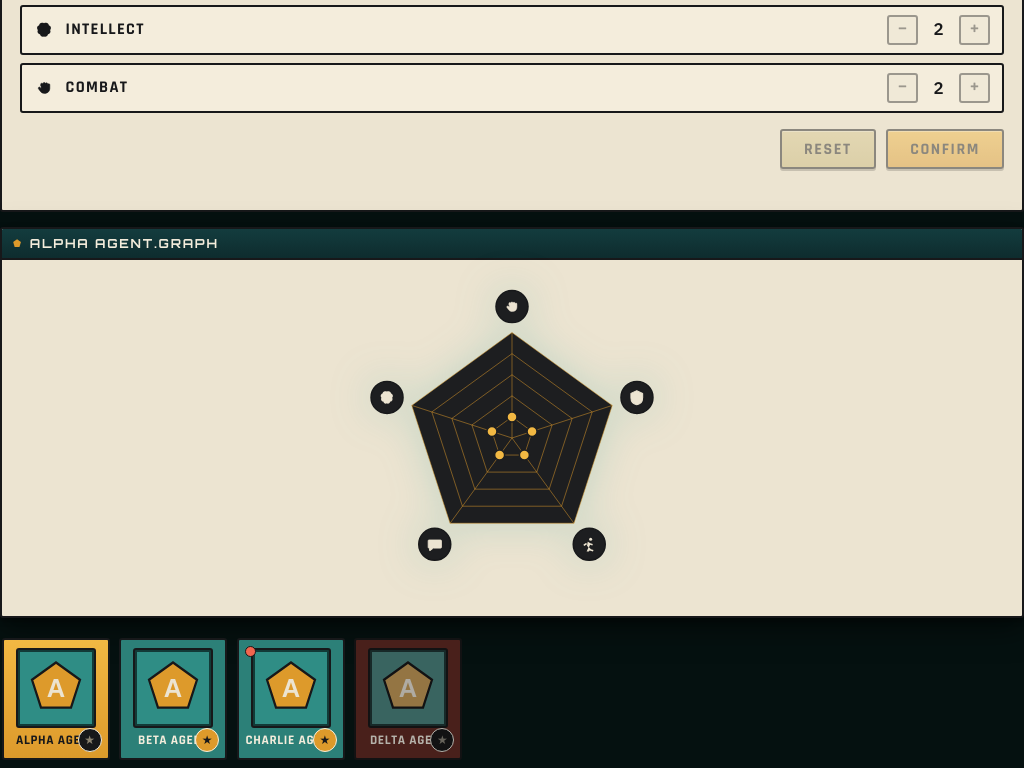
Roster - hero roster bar › switches the hero file when a different tile is clicked
The image size is (1024, 768).
(page scrolled)
Step 1. Click the button "A Charlie Agent ★" → (291, 699), box [237, 638, 345, 760]
(page scrolled)
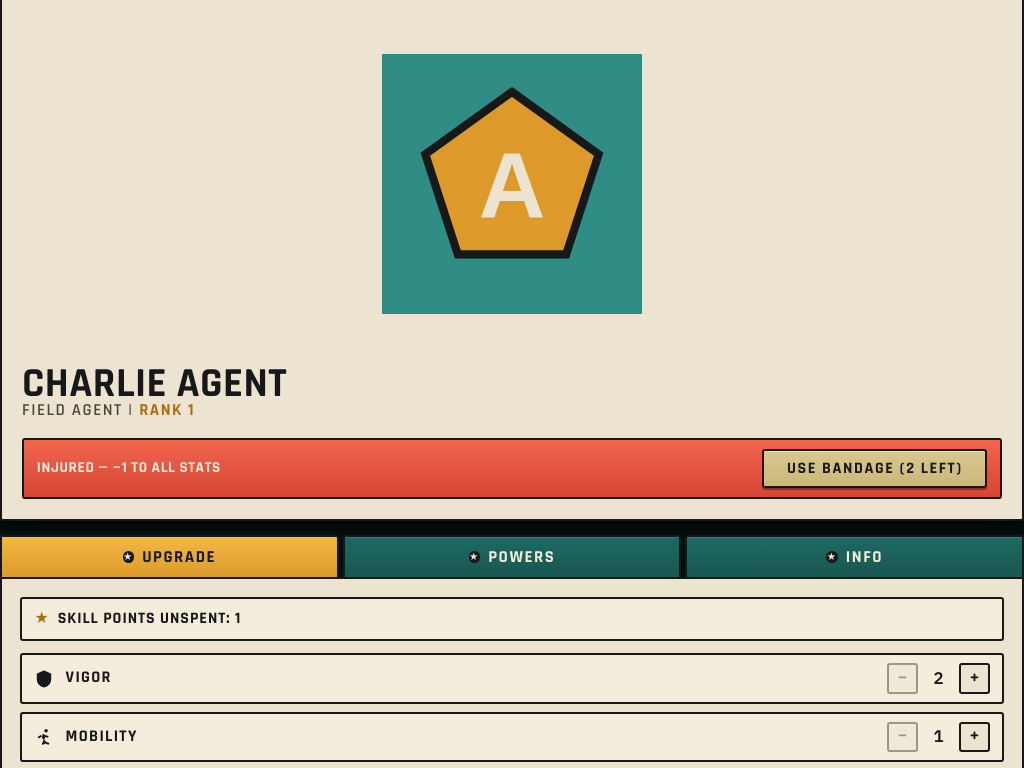
Expected: the heading "Charlie Agent" is shown, [22, 357, 287, 410]
